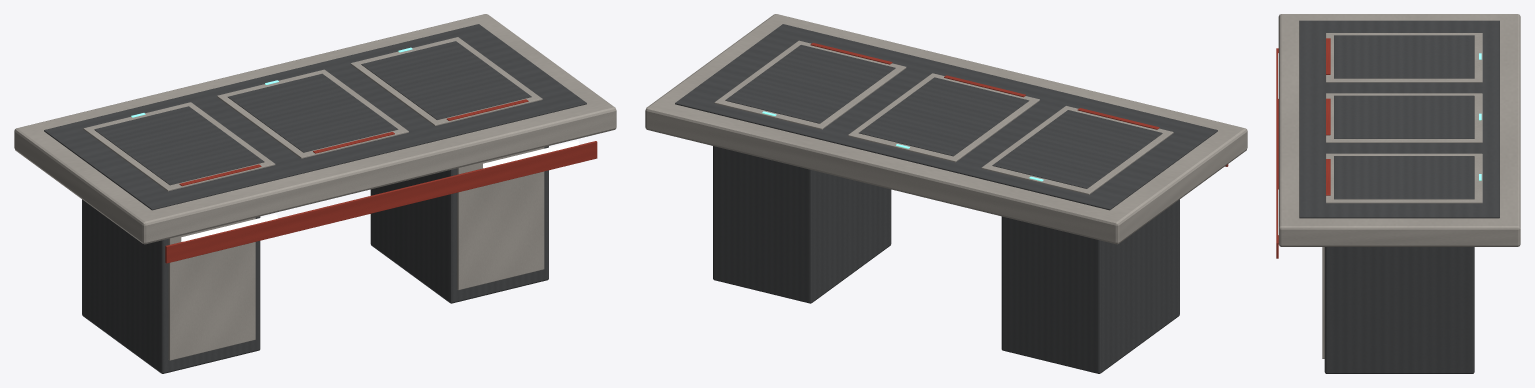
The model's file is mission_table.glb.
3 renders of one model, left to right at view 1: azimuth 30°, elevation 25°; view 2: azimuth 150°, elevation 25°; view 3: azimuth 270°, elevation 25°, orthographic. The views are drawn at different scales.
Parts seen in each view (by area): view 1: tabletop, top_inset, pedestal.003, pedestal_front.001, pedestal_front, pedestal.004, front_red_band, tray_surface, tray_surface.002, tray_surface.001, file_tray.002, file_tray (+3 smaller); view 2: tabletop, pedestal.003, pedestal.004, top_inset, tray_surface.002, tray_surface, tray_surface.001, file_tray, file_tray.002, file_tray.001; view 3: pedestal.004, tabletop, top_inset, tray_surface, tray_surface.002, tray_surface.001, file_tray.002, file_tray, file_tray.001, front_red_band, pedestal_front.001.
Part boxes in pixels (x1=…): tabletop: x1=14, y1=14, x2=616, y2=244; top_inset: x1=44, y1=24, x2=586, y2=210; pedestal.003: x1=82, y1=199, x2=260, y2=373; pedestal_front.001: x1=457, y1=147, x2=544, y2=290; pedestal_front: x1=168, y1=217, x2=255, y2=360; pedestal.004: x1=370, y1=146, x2=548, y2=303; front_red_band: x1=165, y1=141, x2=597, y2=263; tray_surface: x1=94, y1=106, x2=264, y2=185; tray_surface.002: x1=361, y1=41, x2=531, y2=119; tray_surface.001: x1=228, y1=73, x2=398, y2=152; file_tray.002: x1=350, y1=37, x2=542, y2=125; file_tray: x1=83, y1=102, x2=275, y2=191; tabletop: x1=645, y1=14, x2=1247, y2=244; pedestal.003: x1=1001, y1=199, x2=1179, y2=373; pedestal.004: x1=713, y1=146, x2=891, y2=303; top_inset: x1=675, y1=24, x2=1217, y2=210; tray_surface.002: x1=725, y1=45, x2=895, y2=123; tray_surface: x1=992, y1=110, x2=1162, y2=188; tray_surface.001: x1=859, y1=77, x2=1029, y2=156; file_tray: x1=981, y1=106, x2=1173, y2=194; file_tray.002: x1=714, y1=40, x2=906, y2=129; file_tray.001: x1=848, y1=73, x2=1039, y2=162; pedestal.004: x1=1324, y1=247, x2=1474, y2=373; tabletop: x1=1278, y1=14, x2=1520, y2=246; top_inset: x1=1299, y1=20, x2=1499, y2=218; tray_surface: x1=1334, y1=35, x2=1474, y2=78; tray_surface.002: x1=1334, y1=156, x2=1474, y2=199; tray_surface.001: x1=1334, y1=95, x2=1474, y2=138; file_tray.002: x1=1326, y1=153, x2=1482, y2=203; file_tray: x1=1326, y1=33, x2=1482, y2=82; file_tray.001: x1=1326, y1=93, x2=1482, y2=142; front_red_band: x1=1276, y1=48, x2=1278, y2=258; pedestal_front.001: x1=1322, y1=247, x2=1324, y2=358.
Bounding box in the file's own units: 2.2 × 0.817 × 1.06.
Materials: 5 (3 with a texture image).
